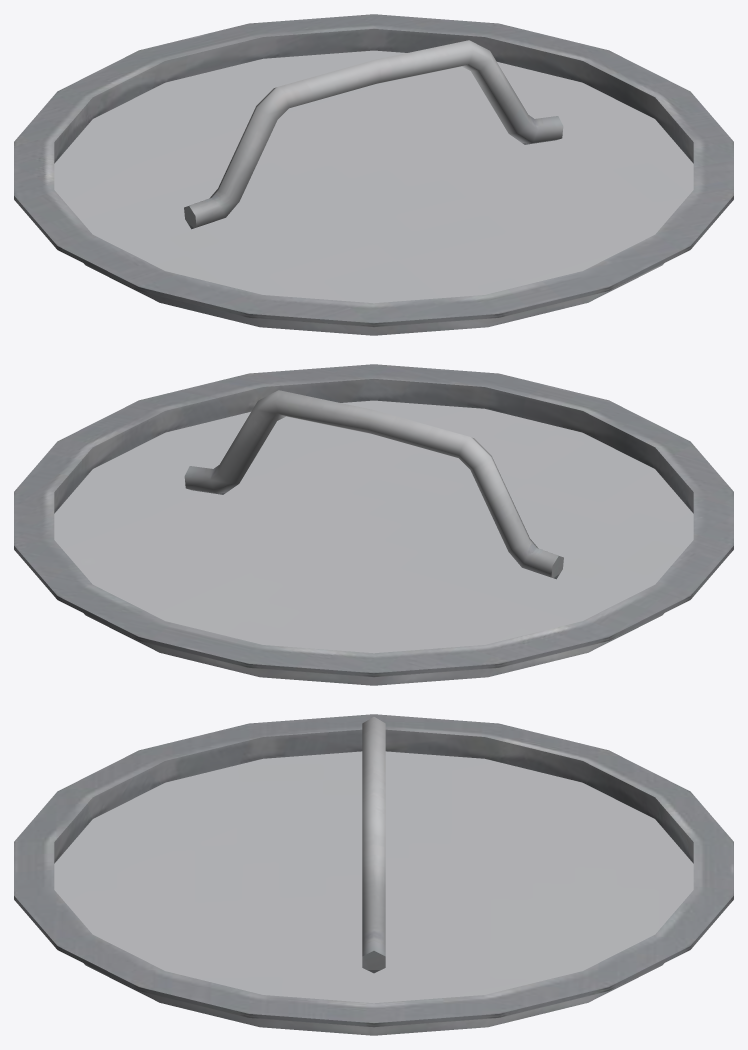
Rendered from SM_Pan_Lid_01b.glb.
The picture shows the model from 3 angles, top to bottom: view 1: azimuth 30°, elevation 25°; view 2: azimuth 150°, elevation 25°; view 3: azimuth 270°, elevation 25°; orthographic projection.
Visible parts, largest first — view 1: SM_Pan_Lid_01b; view 2: SM_Pan_Lid_01b; view 3: SM_Pan_Lid_01b.
Boxes of the visible parts, <box> form: SM_Pan_Lid_01b: <box>14,14,733,335</box>; SM_Pan_Lid_01b: <box>14,364,733,685</box>; SM_Pan_Lid_01b: <box>14,714,733,1035</box>.
Size of the model in its own units: 0.2097 by 0.0427 by 0.2065.
2 materials, 2 textured.
